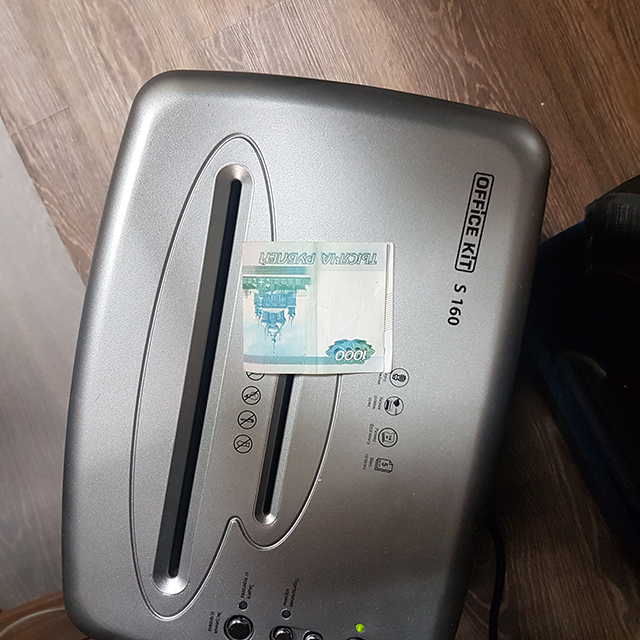banknotes: (240, 242, 395, 376)
